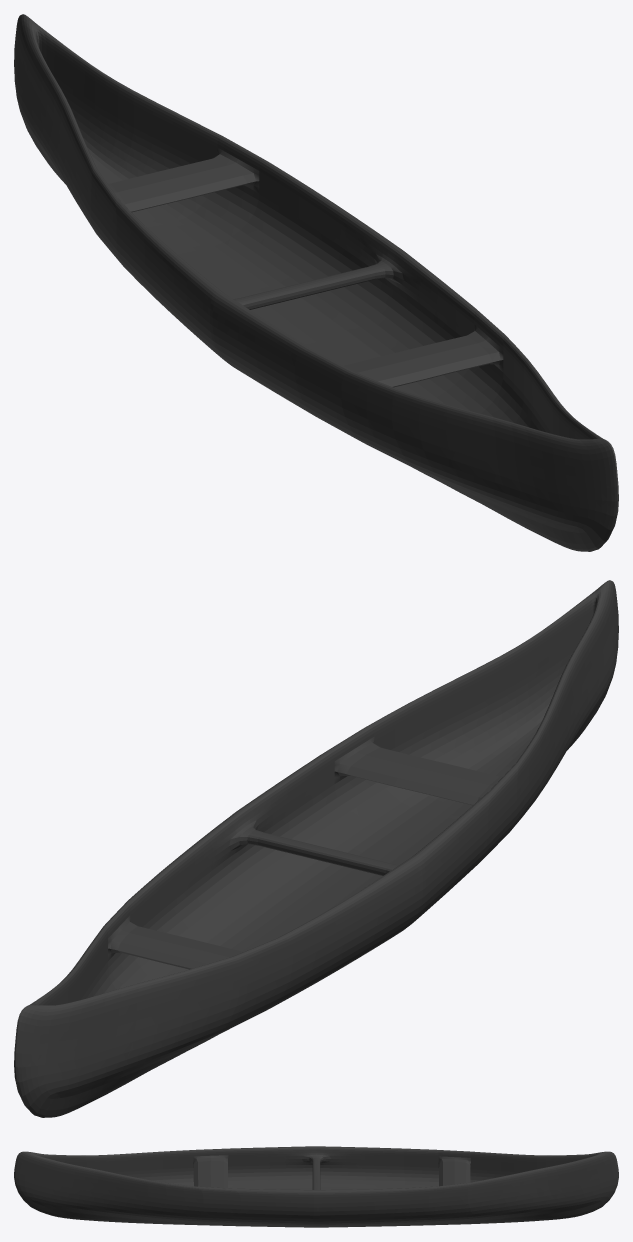
Rendered from canoa.glb.
3 renders of one model, top to bottom at view 1: azimuth 30°, elevation 25°; view 2: azimuth 150°, elevation 25°; view 3: azimuth 270°, elevation 25°, orthographic. The views are drawn at different scales.
Parts seen in each view (by area): view 1: Cube.001; view 2: Cube.001; view 3: Cube.001.
Part boxes in pixels (left/top/right/bottom): Cube.001: left=14, top=14, right=618, bottom=551; Cube.001: left=14, top=580, right=618, bottom=1117; Cube.001: left=14, top=1146, right=618, bottom=1227.
Size of the model in its own units: 0.1764 by 0.132 by 0.95.
Materials: 1 (1 with a texture image).
